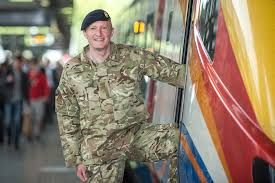uniform: (56, 45, 174, 180)
